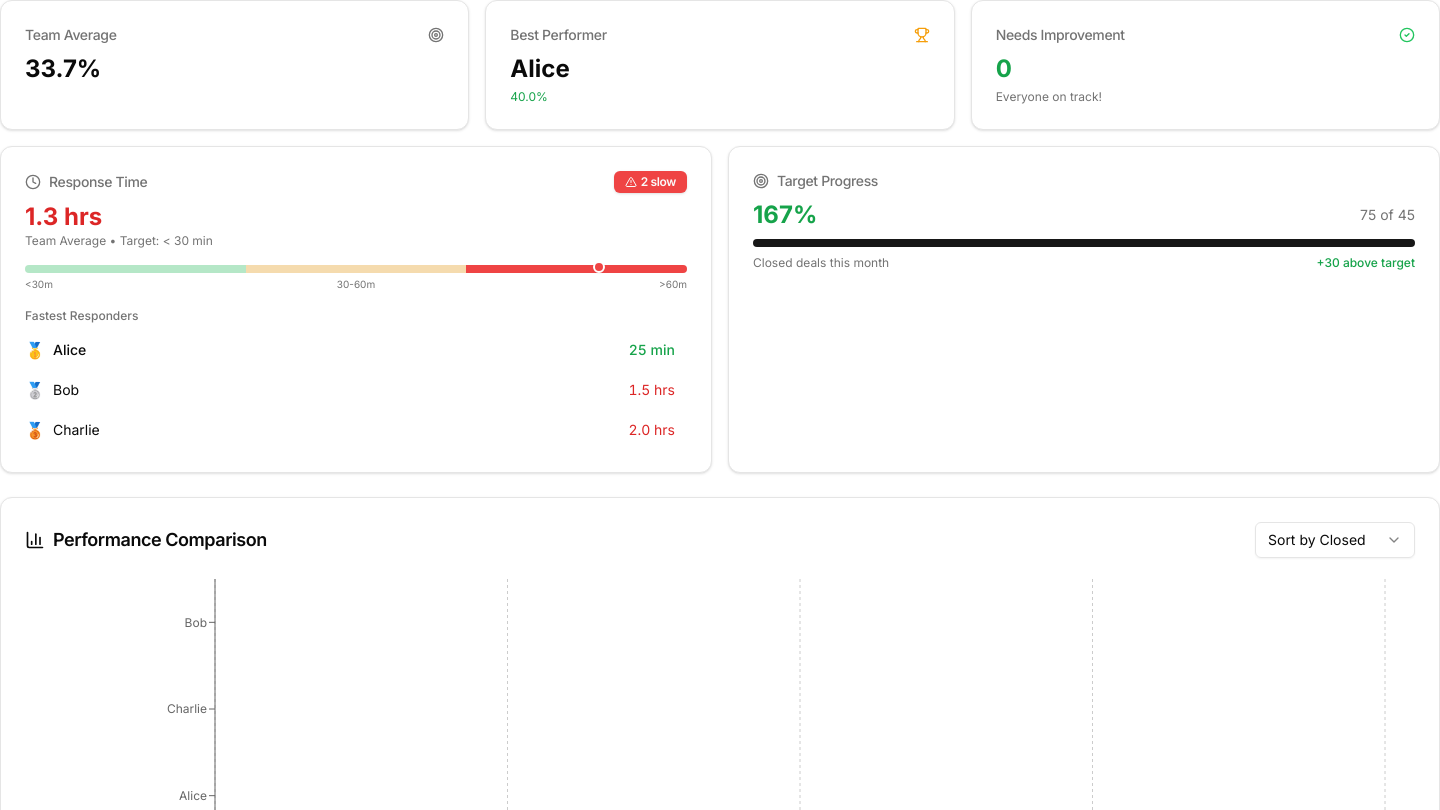
Test: PerformanceTableContainer › Filter Slow Responders (Story 3.4) › clears slow responders filter when clear button is clicked
Note: Click slow responders badge to enable filter
What coordinates should you click on to do the following:
click the button with test id "slow-responders-badge"
I would click on:
 (650, 182)
Its box is [614,171,687,193].
(page scrolled)
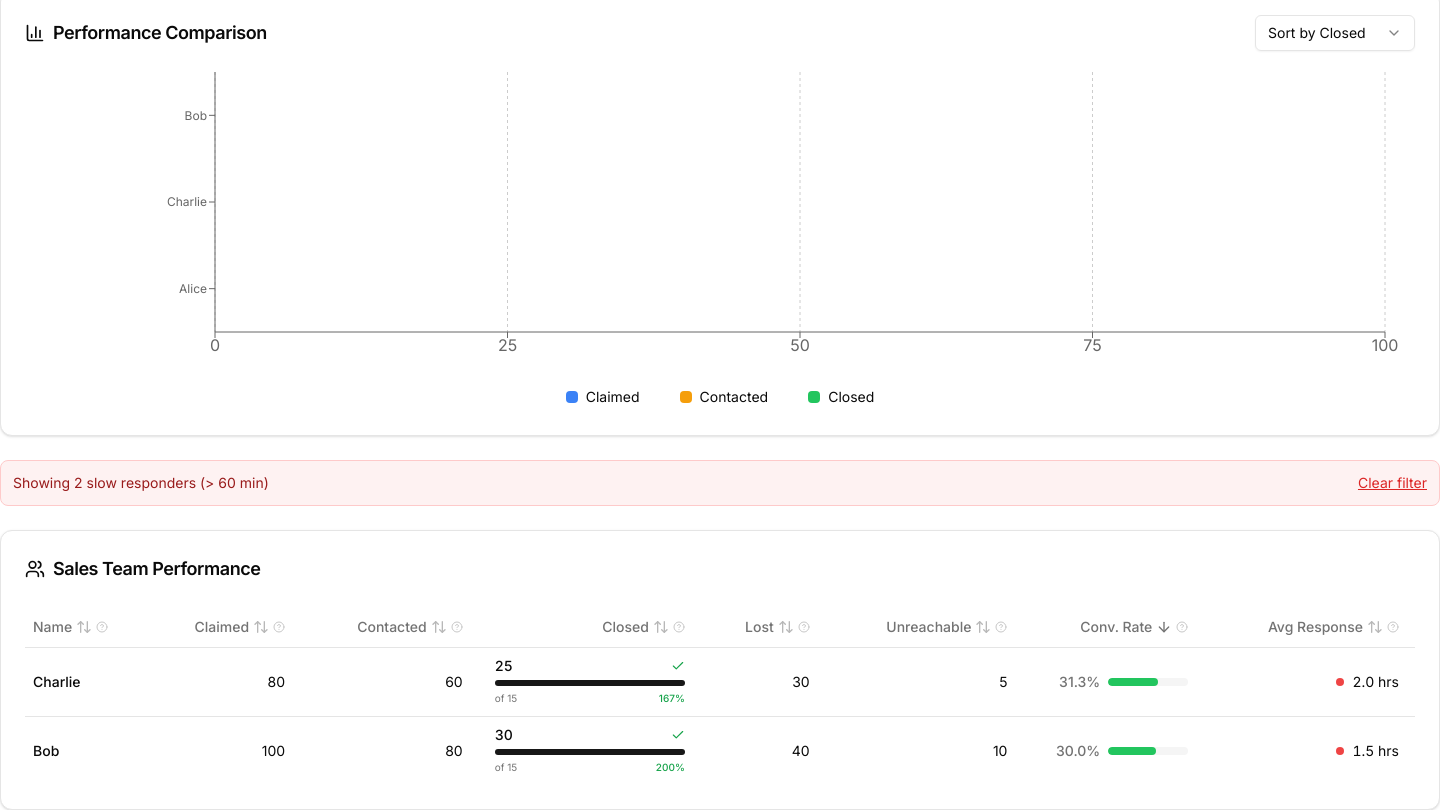
Now the element with test id "slow-responders-filter-indicator" is shown, box [0,460,1439,506]
Note: Click clear filter button
What coordinates should you click on to do the following:
click the button with test id "clear-slow-filter-button"
I would click on:
 (1392, 483)
Its box is [1358,473,1427,493].
(page scrolled)
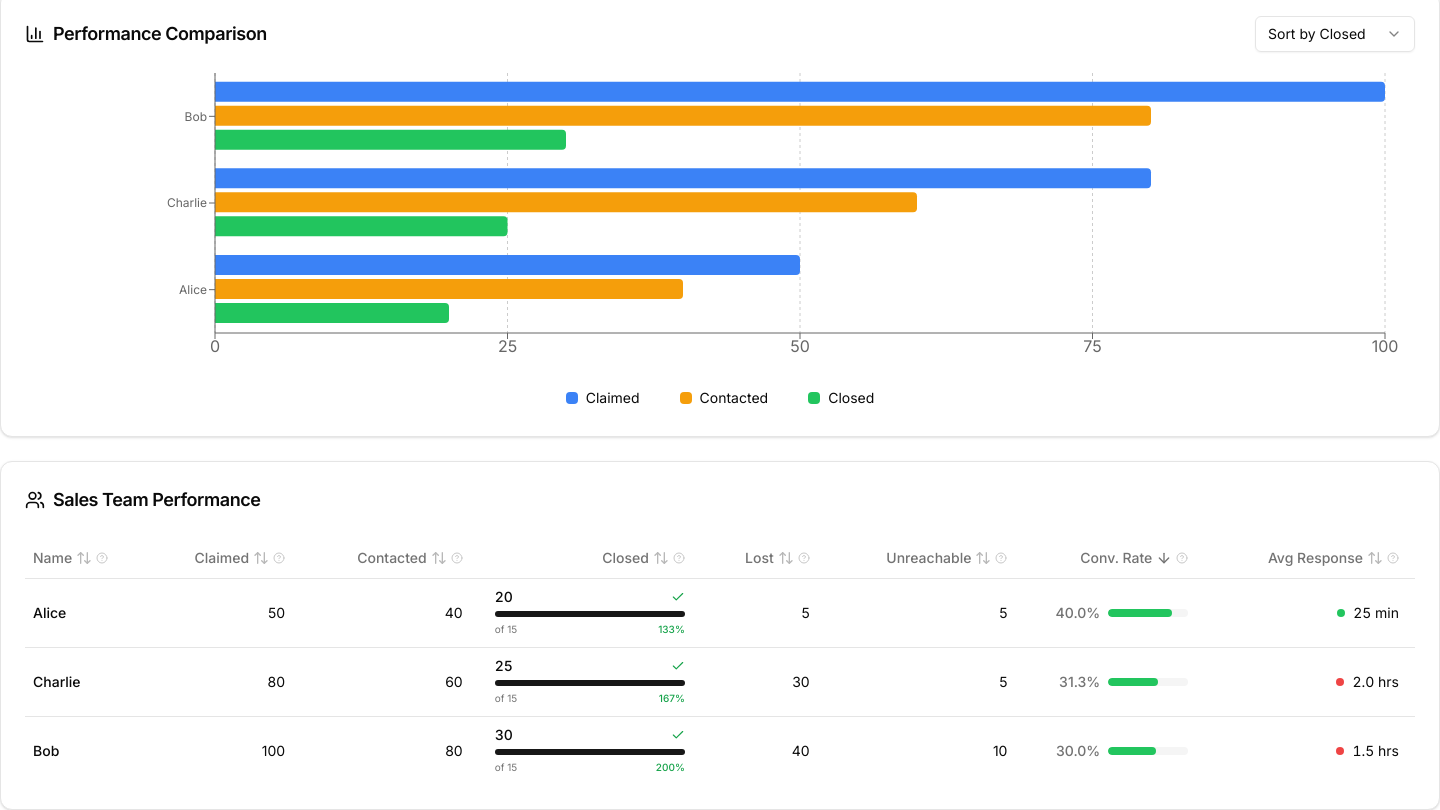
Now the element with test id "slow-responders-filter-indicator" is gone
